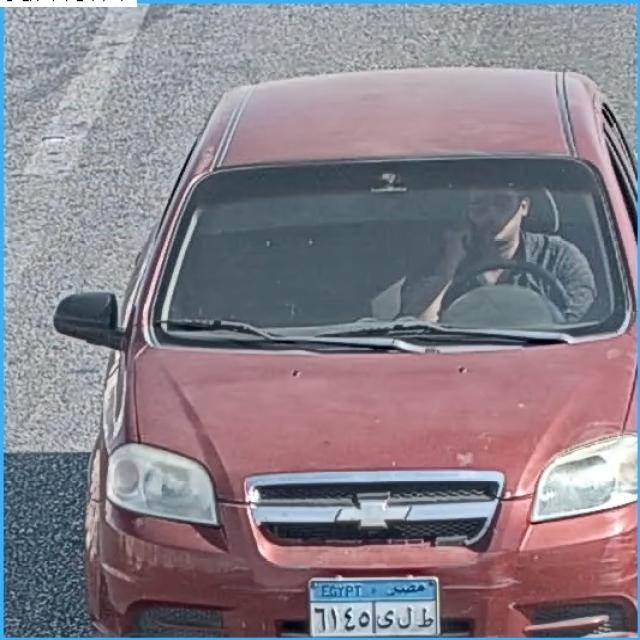windshield: (152, 163, 624, 340)
